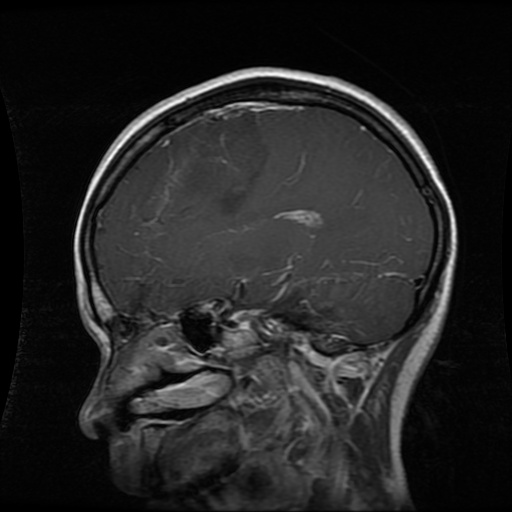glioma: (169, 115, 268, 215)
